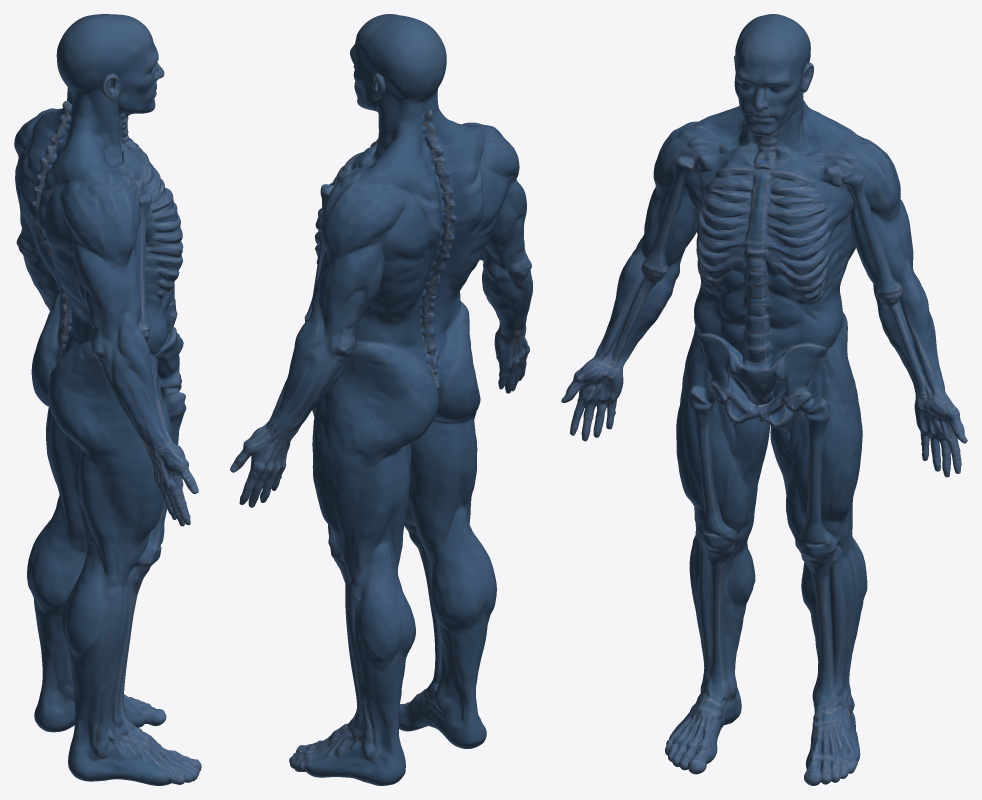
Rendered from ares-human-hologram.glb.
3 views of the same model, side by side, from view 1: azimuth 30°, elevation 25°; view 2: azimuth 150°, elevation 25°; view 3: azimuth 270°, elevation 25° (orthographic). The views are drawn at different scales.
Parts seen in each view (by area): view 1: tripo_node_b818f056-8109-4ab0-bc83-2ac416d80417; view 2: tripo_node_b818f056-8109-4ab0-bc83-2ac416d80417; view 3: tripo_node_b818f056-8109-4ab0-bc83-2ac416d80417.
Part boxes in pixels (bbox=[...]): tripo_node_b818f056-8109-4ab0-bc83-2ac416d80417: bbox=[14, 14, 201, 785]; tripo_node_b818f056-8109-4ab0-bc83-2ac416d80417: bbox=[230, 14, 532, 785]; tripo_node_b818f056-8109-4ab0-bc83-2ac416d80417: bbox=[561, 14, 967, 785].
Bounding box in the file's own units: 0.221 × 1 × 0.5044.
Materials: 1 (1 with a texture image).
